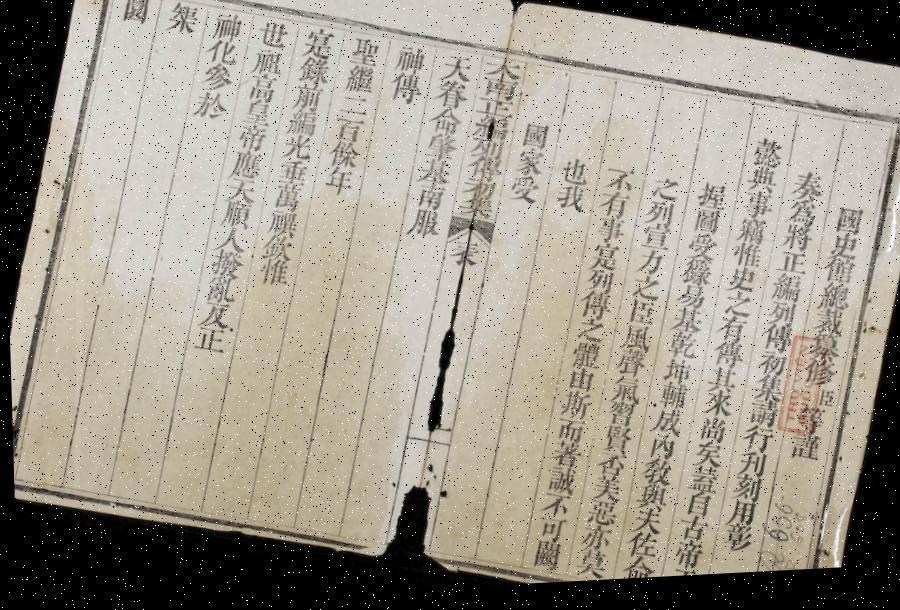c: (746, 140, 788, 181), (162, 0, 204, 40), (786, 174, 828, 214), (384, 73, 425, 113), (206, 10, 248, 49), (188, 90, 231, 128), (468, 116, 513, 152), (252, 19, 293, 57), (298, 28, 339, 66), (339, 66, 379, 104), (691, 184, 731, 222), (436, 54, 476, 92), (444, 240, 484, 278), (480, 57, 526, 90), (782, 438, 823, 475), (292, 57, 334, 93), (424, 108, 466, 144), (194, 300, 236, 336), (345, 37, 384, 75), (226, 150, 266, 187), (430, 81, 470, 118), (788, 410, 828, 447), (204, 249, 246, 284), (391, 46, 430, 83), (554, 392, 593, 429), (575, 292, 614, 329), (594, 427, 633, 464), (650, 385, 690, 421), (660, 335, 700, 371), (765, 278, 805, 314), (538, 468, 578, 504), (196, 62, 236, 98), (568, 551, 608, 587), (812, 287, 852, 323), (584, 477, 624, 513), (802, 338, 842, 374), (199, 274, 239, 310), (209, 225, 250, 260), (187, 326, 229, 360), (461, 157, 504, 190), (503, 177, 541, 214), (323, 141, 362, 177), (248, 47, 287, 83), (755, 328, 794, 364), (216, 200, 255, 236), (287, 83, 326, 119), (242, 74, 281, 110), (735, 428, 774, 464), (681, 236, 720, 272), (681, 468, 720, 504), (252, 258, 291, 294), (775, 229, 815, 264), (818, 261, 858, 296), (665, 310, 706, 344), (578, 502, 619, 536), (795, 364, 836, 398), (477, 78, 520, 110), (736, 195, 774, 231), (318, 167, 356, 203), (716, 528, 754, 564), (666, 544, 704, 580), (584, 244, 622, 280), (676, 261, 714, 297), (550, 186, 588, 222), (410, 183, 448, 219), (404, 210, 442, 246), (706, 344, 745, 379), (261, 210, 301, 244), (272, 160, 312, 194), (624, 511, 664, 545), (806, 314, 846, 348), (256, 234, 296, 268), (277, 134, 317, 168), (454, 196, 496, 228), (565, 344, 603, 379), (731, 221, 769, 256), (630, 487, 668, 522), (605, 379, 643, 414), (232, 124, 270, 159), (282, 110, 320, 145), (524, 543, 562, 578), (711, 319, 749, 354), (544, 442, 582, 477), (741, 404, 779, 439), (700, 370, 738, 405), (237, 99, 275, 134), (645, 412, 684, 446), (593, 194, 632, 228), (421, 135, 460, 169), (620, 534, 659, 568), (573, 527, 612, 561), (202, 39, 242, 72), (473, 98, 517, 128), (414, 160, 455, 192), (635, 461, 672, 496), (600, 168, 637, 203), (829, 211, 866, 246), (686, 444, 724, 478), (670, 518, 708, 552), (724, 478, 762, 512), (730, 454, 768, 488), (782, 204, 820, 238), (670, 286, 708, 320), (636, 226, 674, 260), (220, 177, 259, 210), (458, 180, 500, 210), (610, 353, 647, 387), (743, 170, 780, 204), (656, 362, 694, 395), (726, 247, 764, 280), (517, 123, 552, 158), (556, 160, 592, 194), (590, 219, 627, 252), (645, 179, 682, 212), (746, 380, 784, 412), (328, 118, 366, 150), (511, 151, 546, 185), (692, 420, 728, 453), (640, 203, 677, 235), (696, 396, 733, 428), (722, 272, 759, 304), (717, 296, 754, 328), (600, 404, 637, 436), (677, 495, 714, 527), (548, 421, 586, 452), (466, 140, 508, 168), (616, 328, 652, 360), (687, 213, 723, 245), (626, 279, 662, 311), (268, 184, 304, 216), (721, 504, 757, 536), (752, 356, 788, 388), (622, 303, 657, 335), (614, 558, 654, 586), (824, 240, 860, 271), (772, 256, 808, 287), (530, 518, 566, 549), (630, 254, 667, 284), (571, 322, 607, 352), (761, 306, 797, 336), (535, 496, 571, 526), (334, 96, 370, 126), (642, 438, 676, 469), (581, 272, 616, 302), (591, 456, 627, 485), (117, 0, 154, 28), (562, 372, 596, 401), (812, 395, 834, 418), (660, 571, 698, 584)
